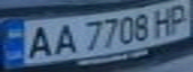0: (118, 12, 139, 45)
7: (78, 17, 106, 52), (100, 16, 121, 48)
8: (133, 10, 154, 43)
A: (18, 22, 57, 61), (48, 20, 81, 56)
H: (148, 4, 178, 37)
P: (163, 1, 193, 34)
